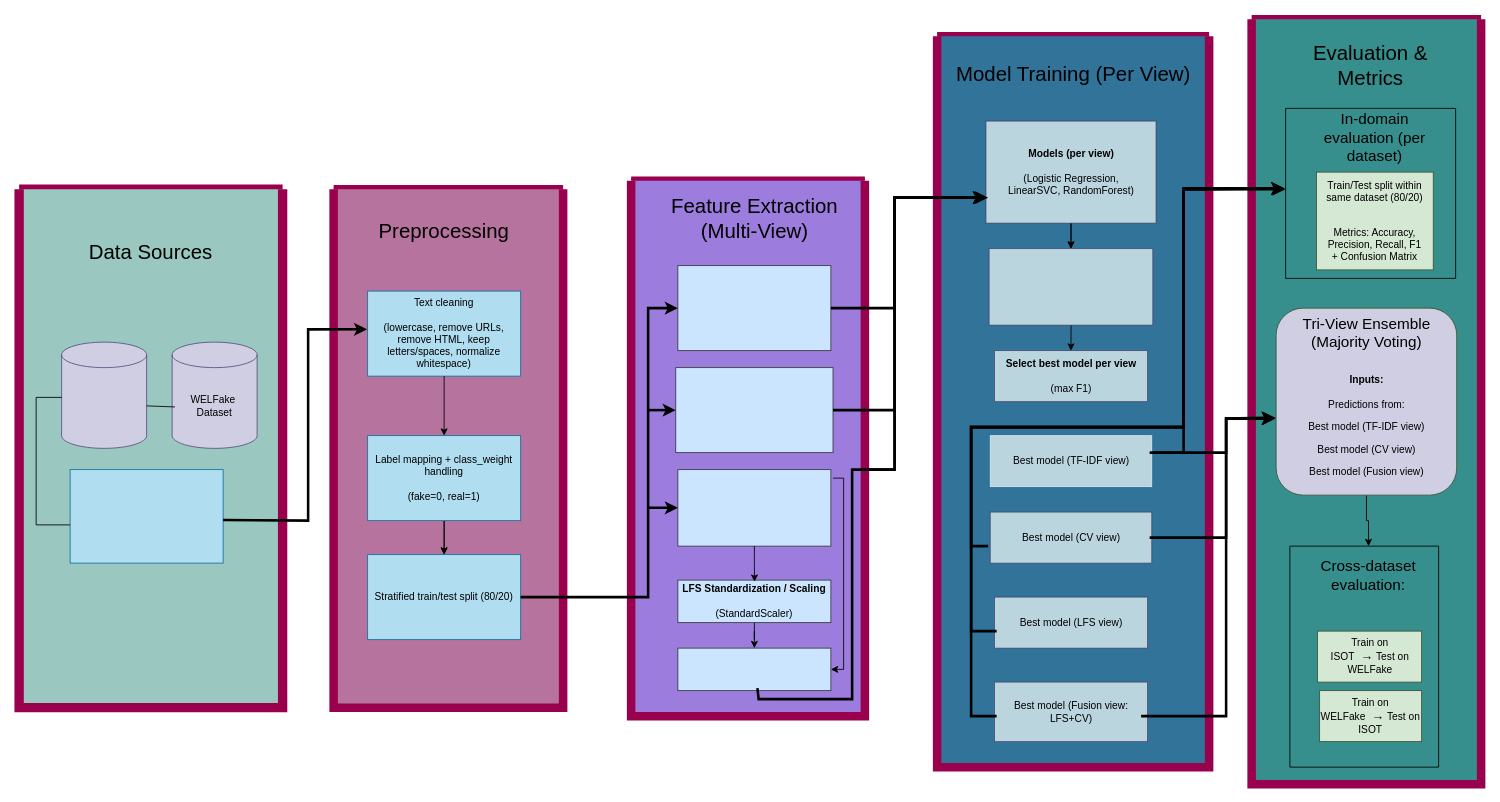
Image size: 1500x802. Some labels were removed from this diagram. Here are the shapes that lost their labels. From the top down, the centre of each, then its label:
[1070,286]: Hyperparameter tuning (RandomizedSearchCV, StratifiedKFold = 3, scoring = F1)
[754,308]: TF-IDF Vectorization (1–2 ngrams, max_features≈50k, stop_words=english)
[104,394]: ISOT Dataset (True.csv, Fake.csv)
[754,410]: Count Vectorization (BoW) (1–2 ngrams, stop_words=english)
[146,516]: Dataset unification (standardize columns:title, text, label, dataset_source)
[754,507]: Linguistic Features (LFS) (readability, punctuation/style, sentiment, structure)
[754,669]: Fusion (LFS + CV) (concatenate / hstack)
